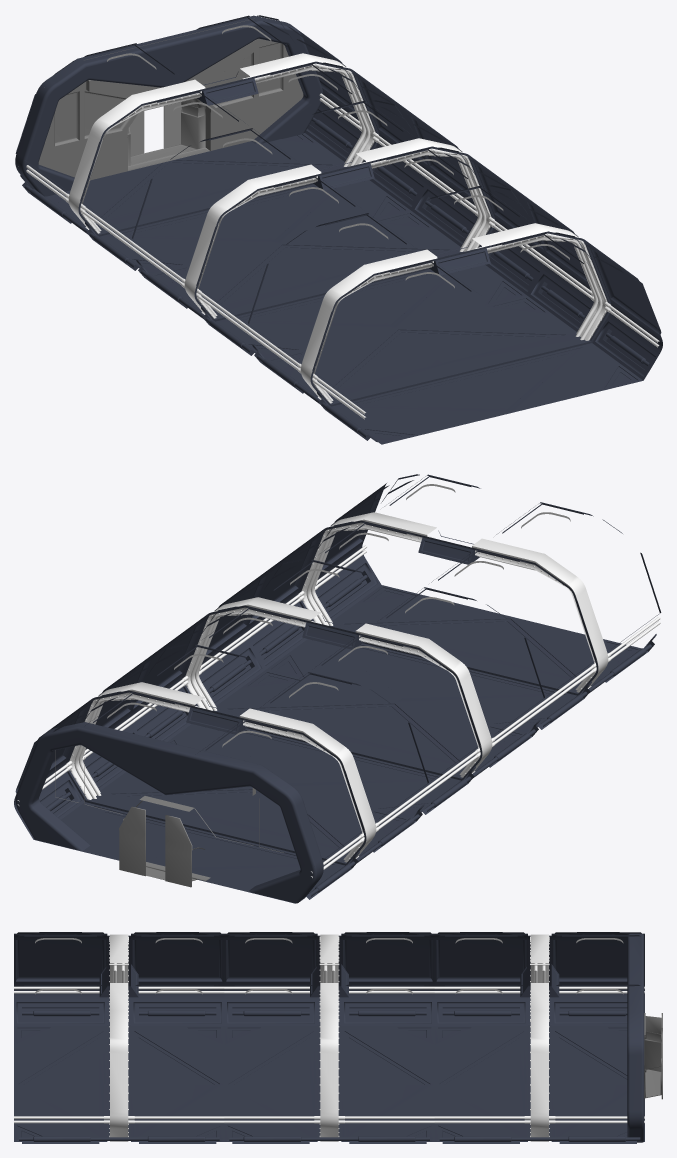
3 views of the same model, one above another, from view 1: azimuth 30°, elevation 25°; view 2: azimuth 150°, elevation 25°; view 3: azimuth 270°, elevation 25° (orthographic). The views are drawn at different scales.
Visible parts, largest first — view 1: Floor, Room, Pillars, Door, Pillar, Red_Lights, TopLights, Right_Door; view 2: Floor, Room, Pillars, Pillar, Red_Lights, Left_Door, Right_Door, TopLights, Door; view 3: Floor, Room, Pillars, Red_Lights, Pillar, Door, TopLights.
Part boxes in pixels (bbox=[...]): Floor: bbox=[45, 133, 642, 444]; Room: bbox=[15, 15, 662, 442]; Pillars: bbox=[26, 53, 659, 419]; Door: bbox=[18, 18, 303, 180]; Pillar: bbox=[15, 15, 323, 196]; Red_Lights: bbox=[25, 117, 649, 437]; TopLights: bbox=[107, 25, 569, 288]; Right_Door: bbox=[163, 102, 181, 148]; Floor: bbox=[34, 585, 641, 903]; Room: bbox=[14, 474, 661, 900]; Pillars: bbox=[17, 512, 660, 878]; Pillar: bbox=[15, 722, 323, 903]; Red_Lights: bbox=[46, 575, 651, 896]; Left_Door: bbox=[165, 815, 192, 887]; Right_Door: bbox=[119, 806, 145, 876]; TopLights: bbox=[107, 484, 570, 747]; Door: bbox=[55, 750, 283, 881]; Floor: bbox=[14, 1026, 644, 1141]; Room: bbox=[14, 932, 644, 1143]; Pillars: bbox=[14, 934, 644, 1141]; Red_Lights: bbox=[19, 1010, 640, 1141]; Pillar: bbox=[627, 933, 644, 1142]; Door: bbox=[644, 1013, 661, 1101]; TopLights: bbox=[35, 938, 623, 994].
Bounding box in the file's own units: 5.92 × 2.39 × 12.18.
